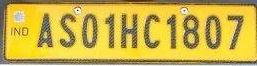character: (120, 12, 138, 50), (181, 14, 200, 49), (226, 14, 244, 49), (36, 10, 53, 47), (81, 12, 98, 49), (59, 12, 76, 48), (143, 13, 160, 49), (204, 14, 221, 49), (103, 13, 115, 49), (166, 13, 177, 50)
